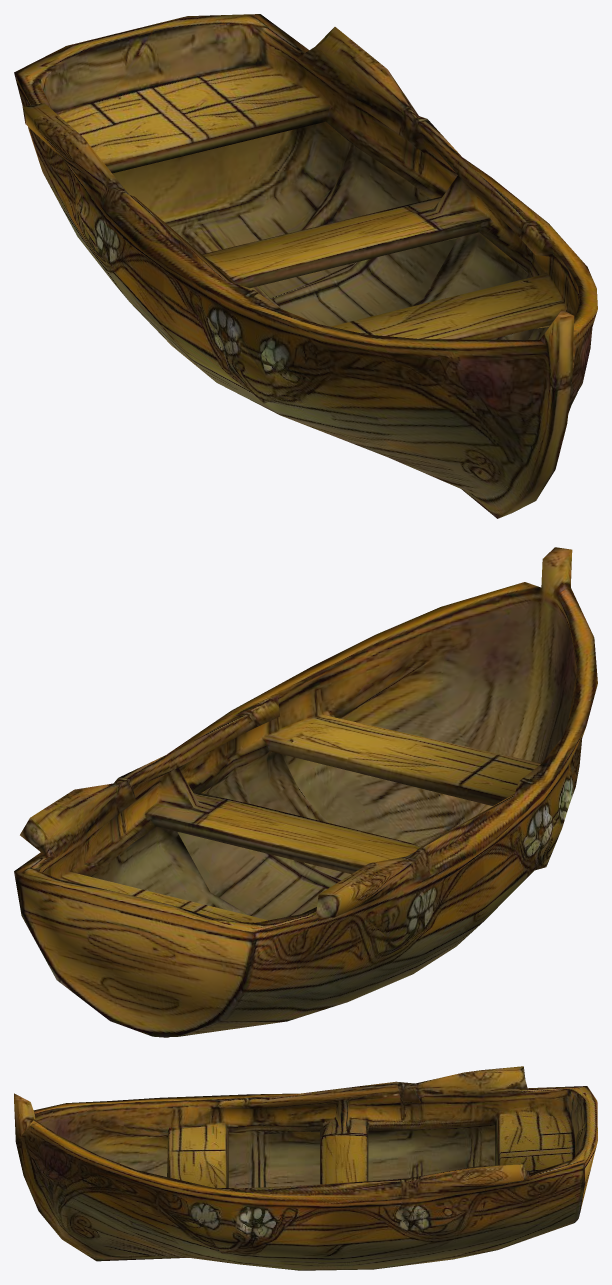
Rendered from demo_rowboat_mucha.glb.
The picture shows the model from 3 angles, top to bottom: view 1: azimuth 30°, elevation 25°; view 2: azimuth 150°, elevation 25°; view 3: azimuth 270°, elevation 25°; orthographic projection. The views are drawn at different scales.
Parts seen in each view (by area): view 1: tripo_node_280728c5-057f-49d3-b359-10bedee908d7.001; view 2: tripo_node_280728c5-057f-49d3-b359-10bedee908d7.001; view 3: tripo_node_280728c5-057f-49d3-b359-10bedee908d7.001.
Part boxes in pixels (x1,y1,x2,y2): tripo_node_280728c5-057f-49d3-b359-10bedee908d7.001: (14,14,597,518); tripo_node_280728c5-057f-49d3-b359-10bedee908d7.001: (14,547,597,1037); tripo_node_280728c5-057f-49d3-b359-10bedee908d7.001: (14,1066,597,1270).
Bounding box in the file's own units: 0.4404 × 0.3058 × 0.9953.
1 material, 1 textured.
